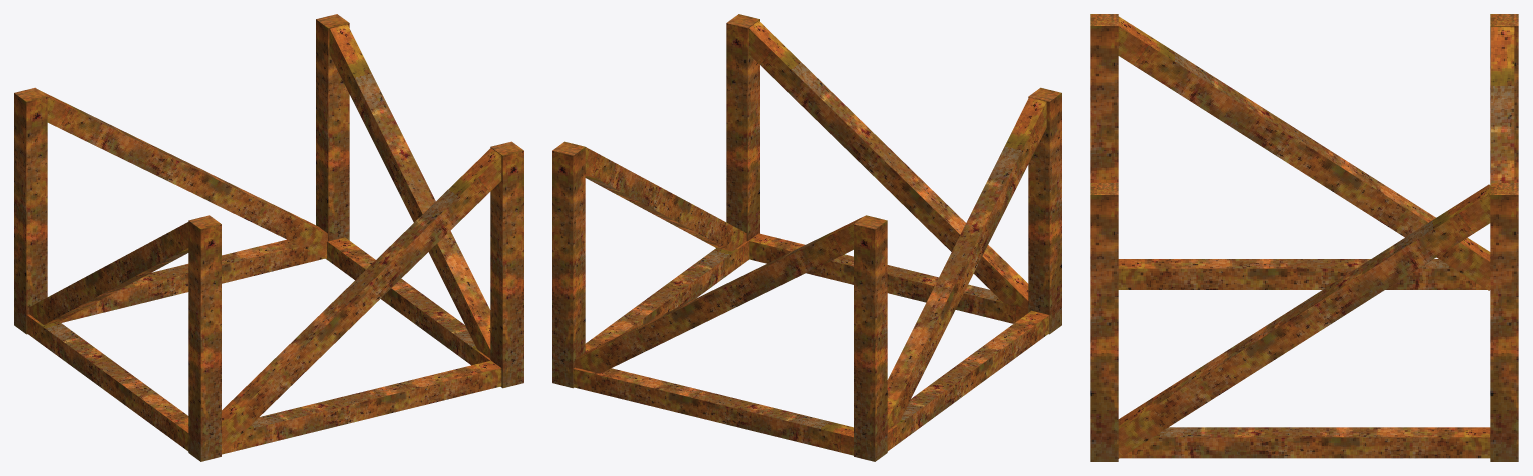
File: crane.glb
3 renders of one model, left to right at view 1: azimuth 30°, elevation 25°; view 2: azimuth 150°, elevation 25°; view 3: azimuth 270°, elevation 25°, orthographic. The views are drawn at different scales.
Visible parts, largest first — view 1: diagpillar, pillars, base; view 2: diagpillar, pillars, base; view 3: diagpillar, pillars, base.
Part boxes in pixels (x1,y1,x2,y2): diagpillar: [29, 24, 501, 453]; pillars: [14, 14, 523, 461]; base: [26, 237, 501, 454]; diagpillar: [575, 21, 1046, 430]; pillars: [552, 14, 1061, 461]; base: [573, 233, 1049, 455]; diagpillar: [1118, 16, 1514, 458]; pillars: [1090, 14, 1518, 461]; base: [1118, 259, 1490, 458].
Bounding box in the file's own units: 6.03 × 4.15 × 6.03.
1 material, 1 textured.
